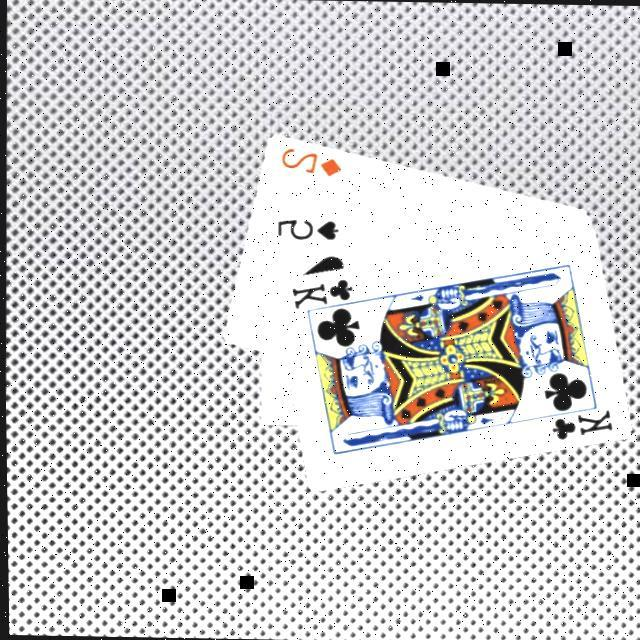2D: (274, 142, 343, 178)
5S: (269, 214, 337, 241)
KC: (534, 398, 613, 442), (284, 273, 362, 316)
